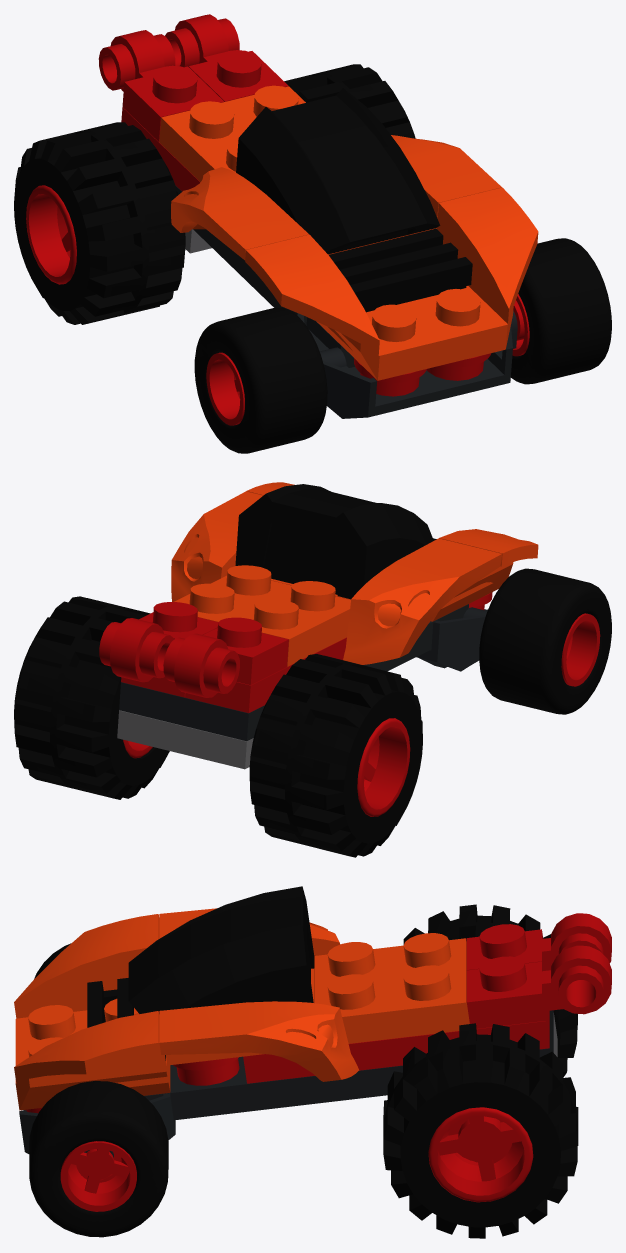
File: car.dae
3 views of the same model, one above another, from view 1: azimuth 30°, elevation 25°; view 2: azimuth 150°, elevation 25°; view 3: azimuth 270°, elevation 25° (orthographic). The views are drawn at different scales.
Visible parts, largest first — view 1: Part-41854, Part-87697 Tire-RR, Part-30602, Part-30028 Tire-FR, Part-44674, Part-30028 Tire-FL, Part-2412, Part-4081, Part-3022, Part-6157, Part-4081_ncl1_1, Part-87697 Tire-RL (+7 smaller); view 2: Part-87697 Tire-RR, Part-87697 Tire-RL, Part-44674, Part-30602, Part-30028 Tire-FR, Part-3022, Part-4081, Part-4081_ncl1_1, Part-3795 Main, Part-4600, Part-6014_ncl1_1, Part-41854 (+4 smaller); view 3: Part-87697 Tire-RL, Part-41854, Part-30602, Part-30028 Tire-FL, Part-3022, Part-44674, Part-4081_ncl1_1, Part-6014, Part-3795 Main, Part-4081, Part-3710_ncl1_1, Part-30027 (+4 smaller).
Part boxes in pixels (x1,y1,x2,y2): Part-41854: (245,187,538,380); Part-87697 Tire-RR: (14,122,185,324); Part-30602: (236,88,440,254); Part-30028 Tire-FR: (194,307,327,453); Part-44674: (171,135,501,260); Part-30028 Tire-FL: (510,238,611,384); Part-2412: (329,228,472,312); Part-4081: (98,30,224,141); Part-3022: (159,85,305,181); Part-6157: (297,310,517,418); Part-4081_ncl1_1: (165,14,288,101); Part-87697 Tire-RL: (284,64,415,138); Part-87697 Tire-RR: (249,654,422,857); Part-87697 Tire-RL: (14,596,169,799); Part-44674: (171,491,501,664); Part-30602: (235,484,433,599); Part-30028 Tire-FR: (479,568,611,714); Part-3022: (174,565,350,666); Part-4081: (163,617,288,697); Part-4081_ncl1_1: (99,602,217,682); Part-3795 Main: (119,604,468,741); Part-4600: (117,710,253,769); Part-6014_ncl1_1: (357,718,410,816); Part-41854: (246,482,538,621); Part-87697 Tire-RL: (383,1023,578,1238); Part-41854: (14,914,170,1110); Part-30602: (128,886,314,1013); Part-30028 Tire-FL: (29,1081,168,1237); Part-3022: (315,933,469,1043); Part-44674: (159,908,359,1081); Part-4081_ncl1_1: (466,945,611,1028); Part-6014: (428,1107,533,1202); Part-3795 Main: (144,1010,553,1120); Part-4081: (466,913,611,970); Part-3710_ncl1_1: (243,1011,549,1083); Part-30027: (60,1141,136,1211).
Bounding box in the file's own units: 1.75 × 1.15 × 2.46.
